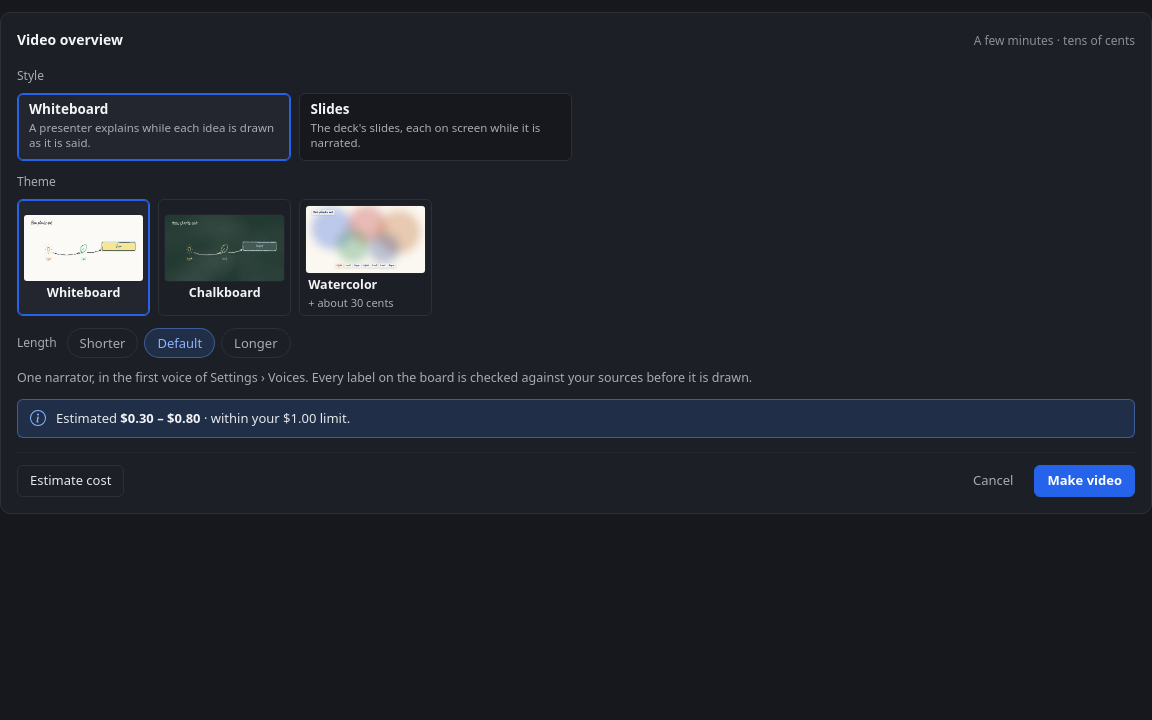
Test: the Video overview tool › says what the video would cost, as the server prices it, and again for another length
Expected: the message named "Estimated cost" reads "Estimated $0.30 – $0.80 · within your $1.00 limit.", [17,399,1135,438]
Longer is priced again, and over the limit it cannot be made.
What coordinates should you click on to do the following:
click the radio button "Longer"
I would click on:
 (256, 343)
Its box is [221,328,290,358].
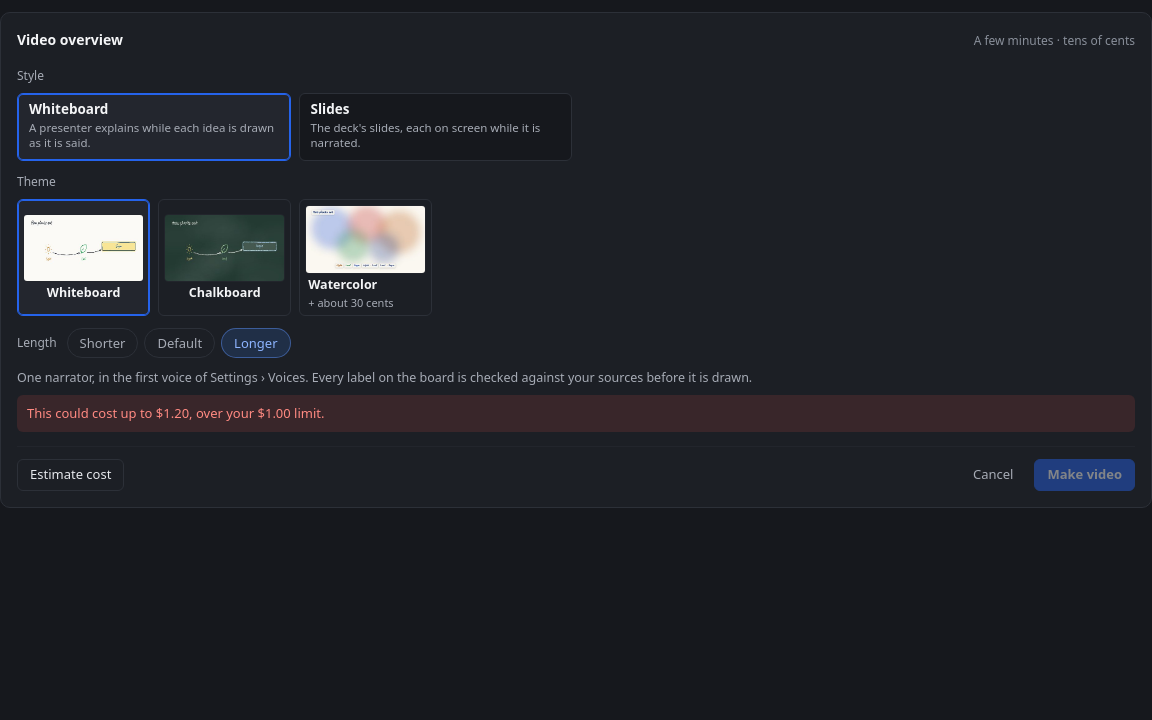
Expected: the text "This could cost up to $1.20, over your $1.00 limit." is shown, [17,395,1135,432]
Expected: the button "Make video" is disabled, [1034,459,1135,491]
What coordinates should you click on to do the following:
click the radio button "Shorter"
I would click on:
 (102, 343)
Its box is [67,328,138,358].
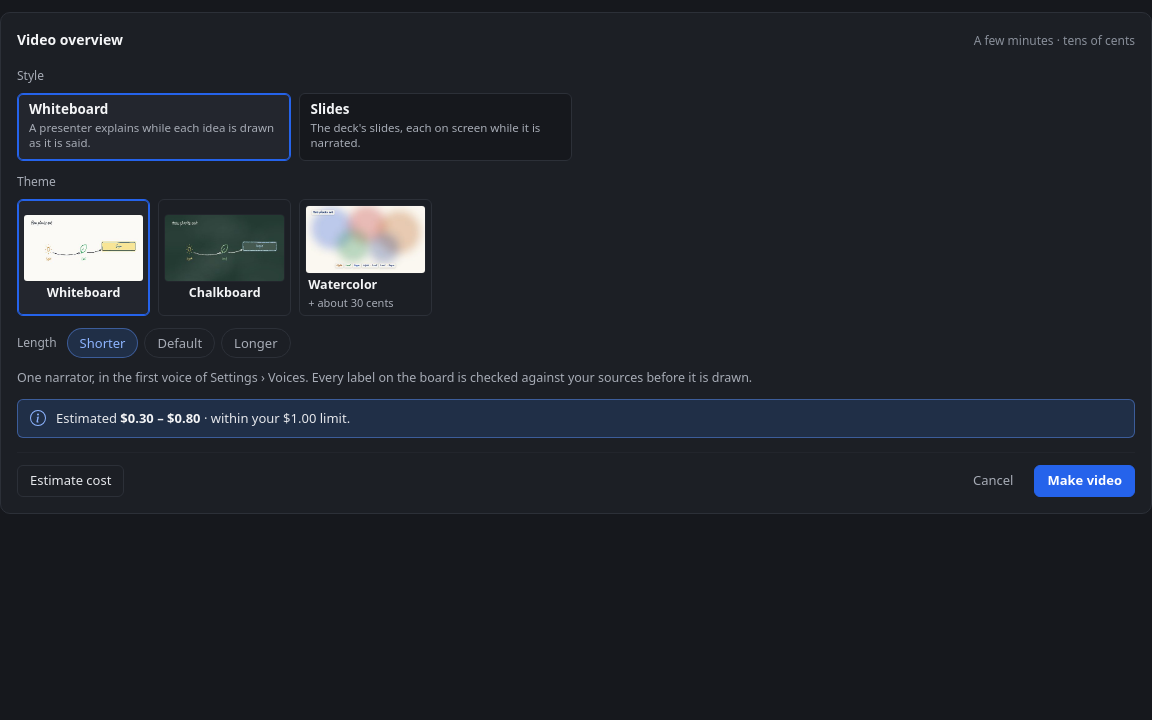
Expected: the message named "Estimated cost" shows "$0.30 – $0.80", [120,409,201,427]
